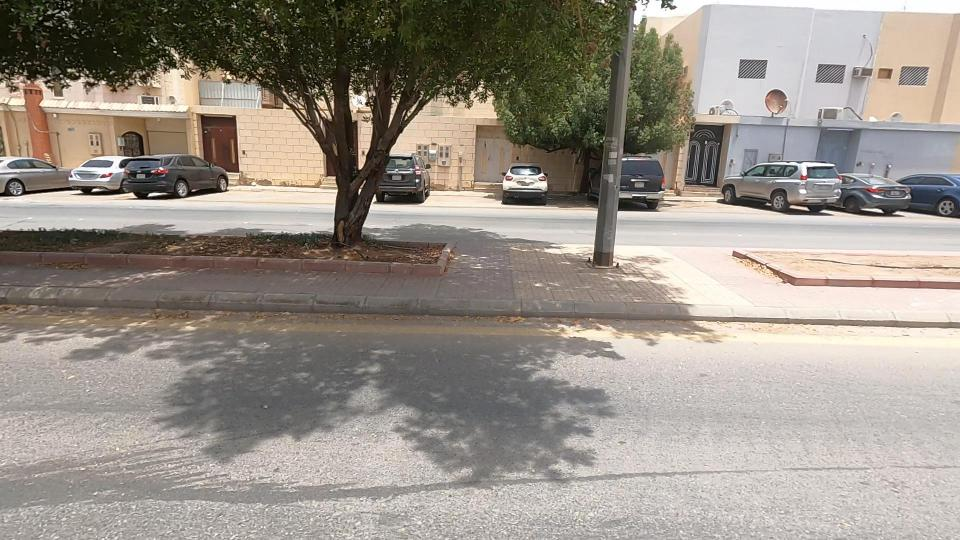CLUTTER_SIDEWALK: (718, 215, 960, 315)
